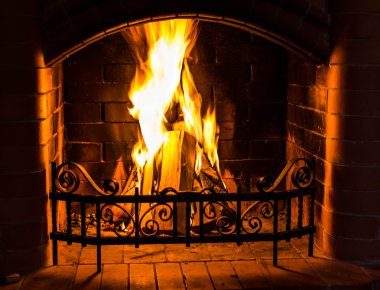fire: (124, 22, 226, 175)
